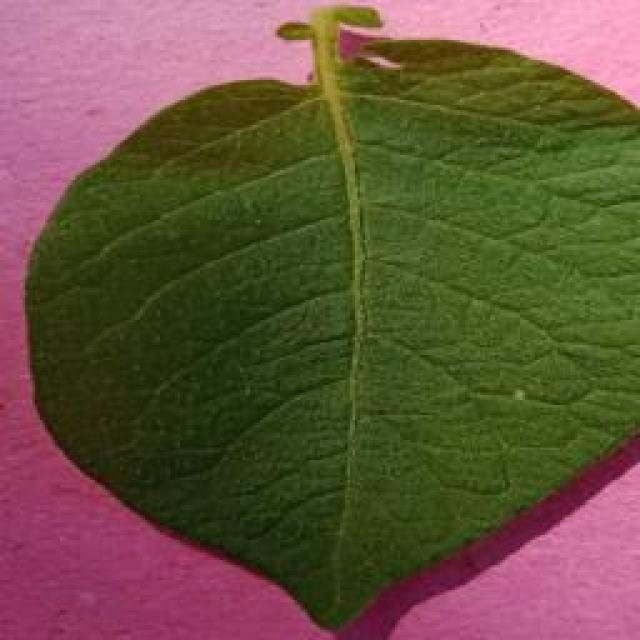Potato_Healthy: (22, 7, 630, 628)
